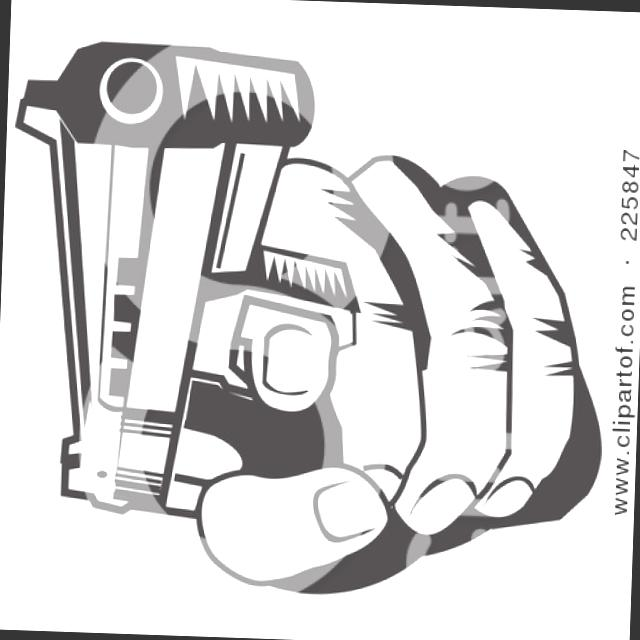handgun: (0, 32, 346, 524)
